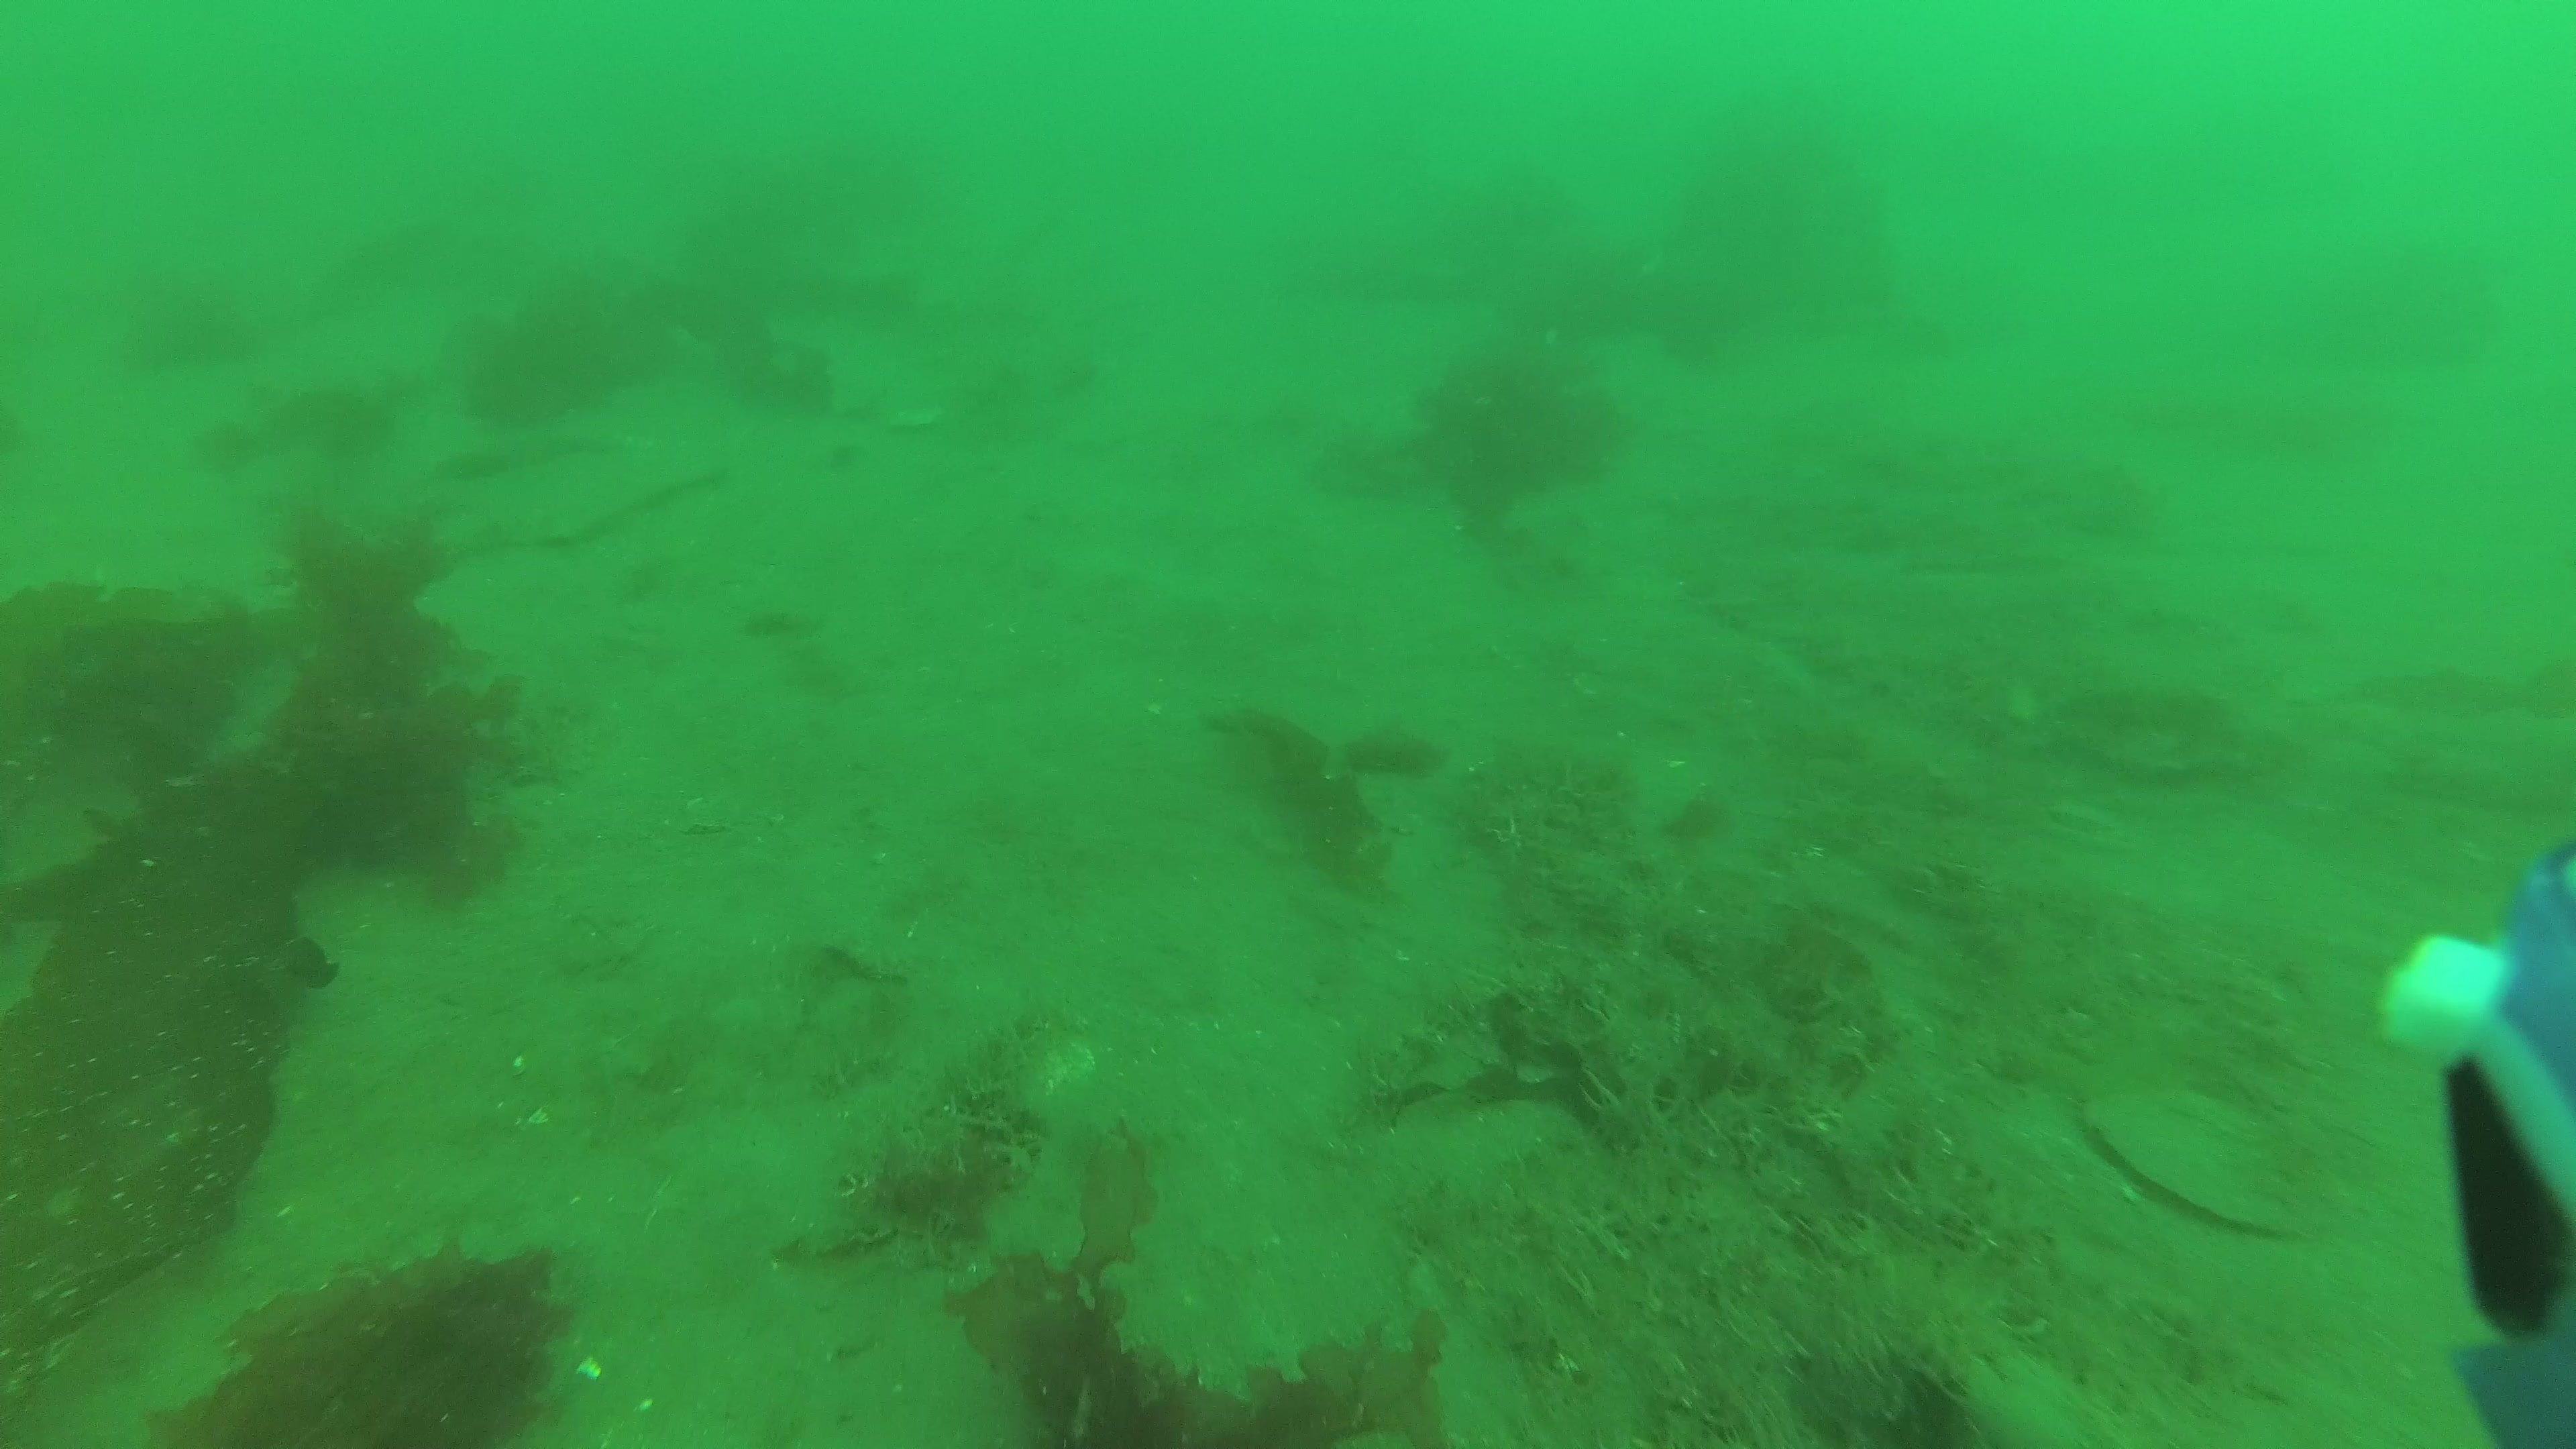scallop: (2084, 1088, 2311, 1244)
